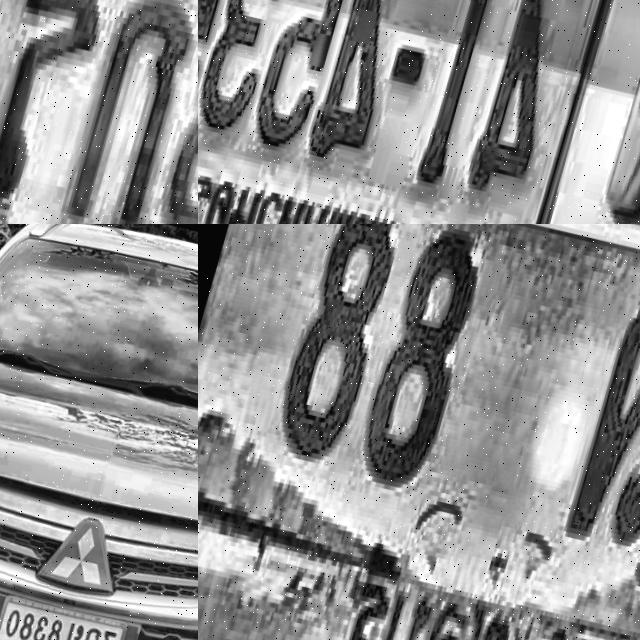license-plate: (198, 224, 640, 640), (198, 0, 636, 224), (0, 0, 198, 224), (0, 587, 132, 640)
